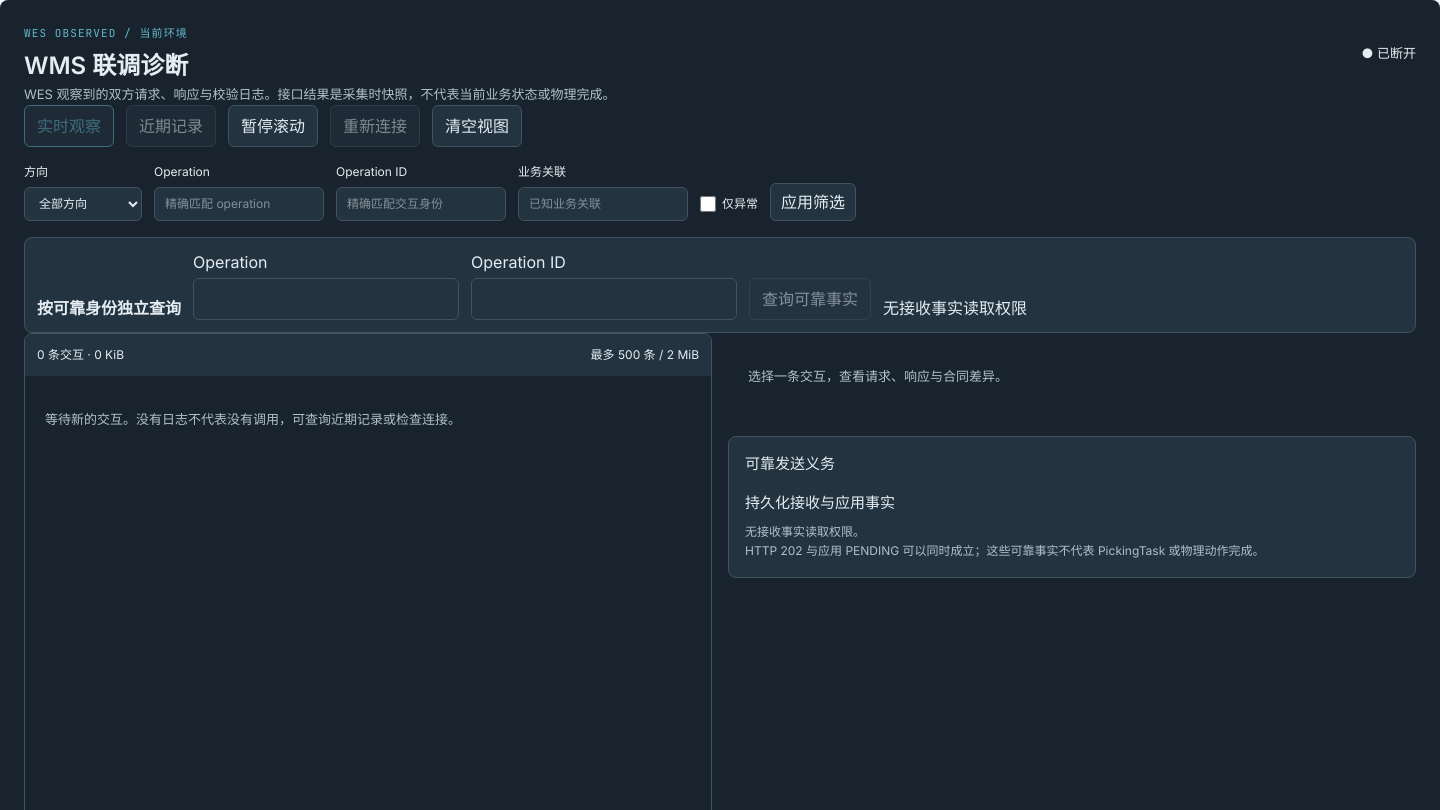
Scenario: WMS 联调页面权限与现场含义 › 查询错误 code 3000 保留不确定性
Type "prepare@v1" into the field named "operation" at x=326, y=299, box [193,278,459,320]
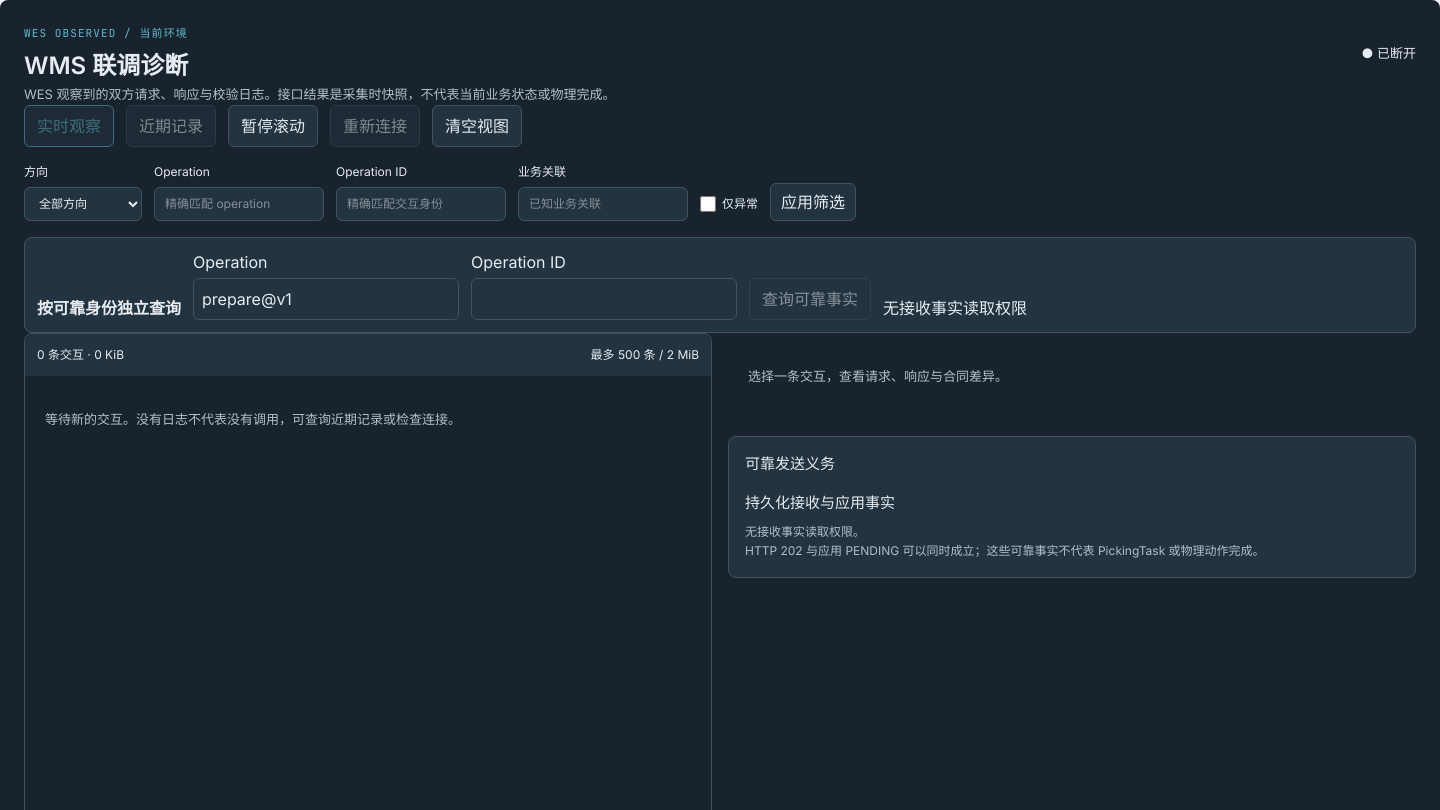
Type "op-3" into the field named "operation_id" at x=604, y=299, box [471,278,737,320]
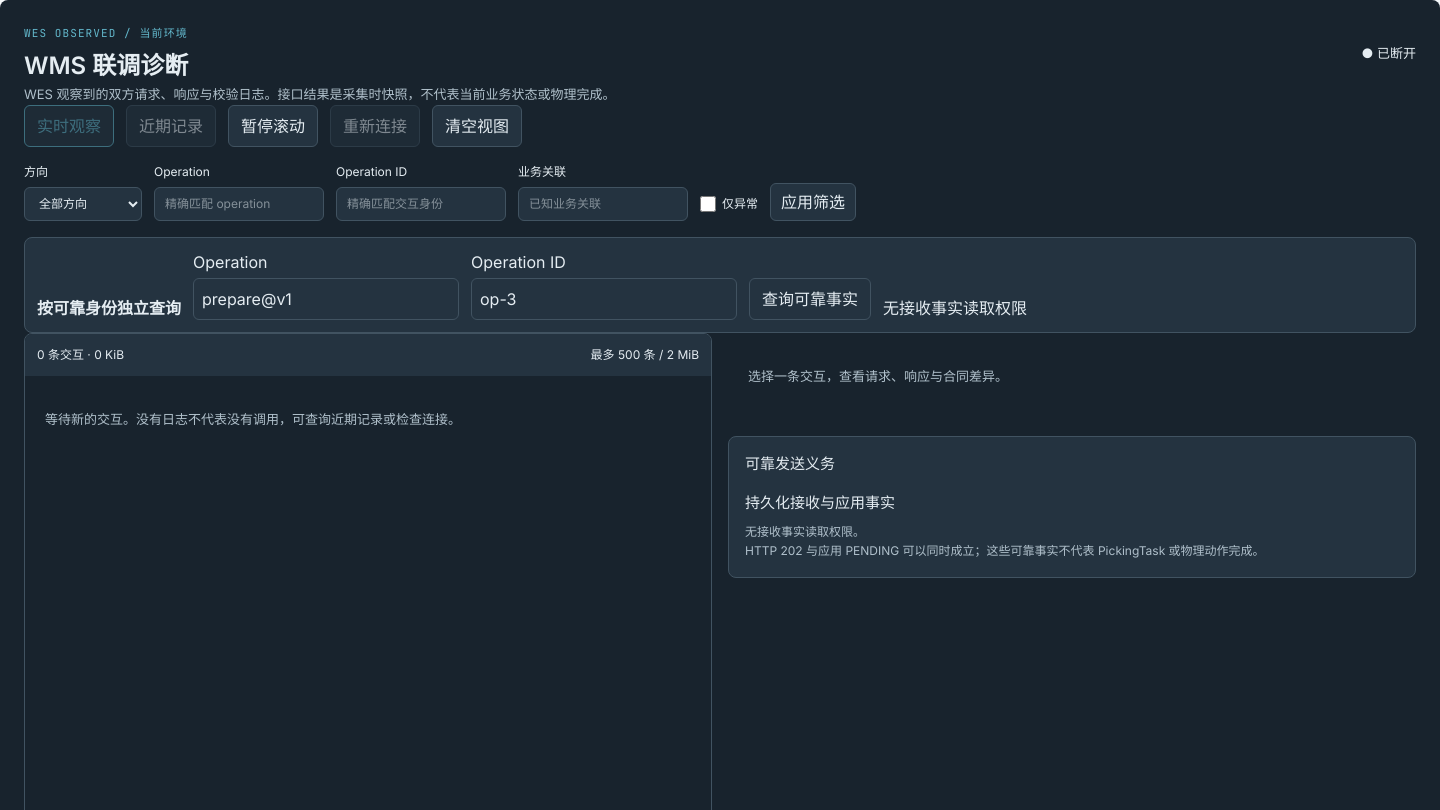
Submit the form "按可靠身份独立查询 Operation Operation ID 查询可靠事实 无接收事实读取权限", box [24,237,1416,333]
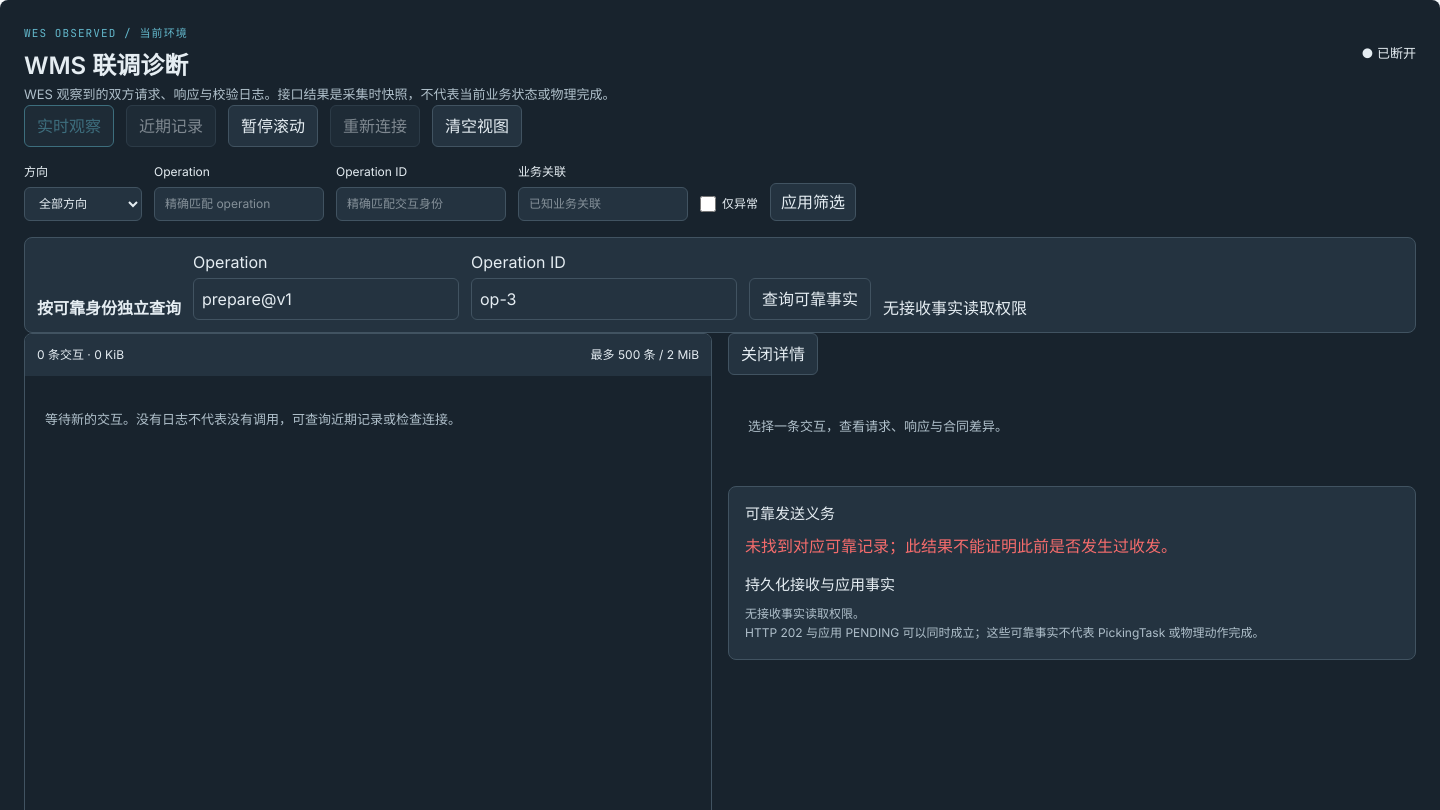
expect the text "未找到对应可靠记录" is shown: met, box [745,536,1177,556]
